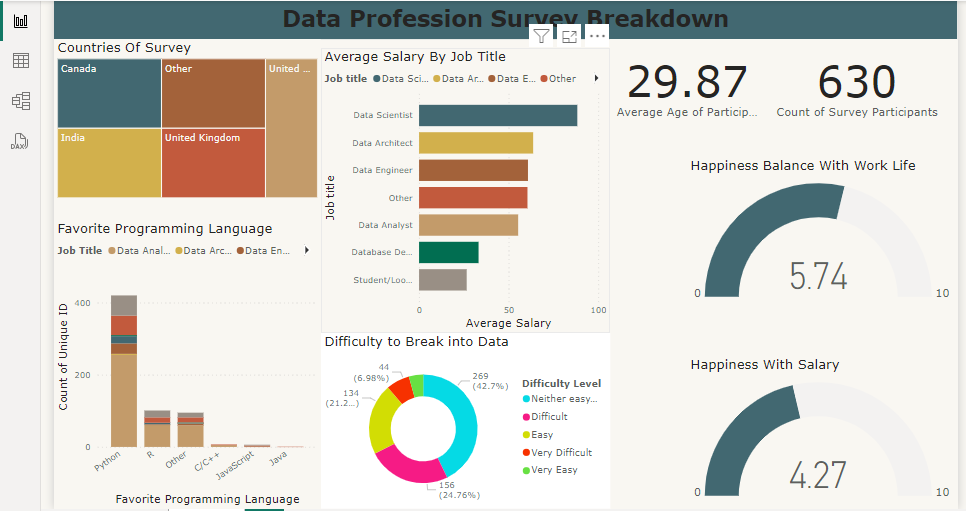

This screenshot's page, from the dashboard's own definition file:
{"tool":"powerbi","page":{"name":"Page 1","canvas":[1280,720],"ordinal":0},"visuals":[{"type":"textbox","box":[0,0,1280,53.8],"z":0},{"type":"card","fields":{"Values":["Count(Data Professional Survey.Unique ID)"]},"box":[996.2,53.8,283.8,131.7],"z":1000},{"type":"card","fields":{"Values":["Avg(Data Professional Survey.Q10 - Current Age)"]},"box":[788.4,53.8,218.9,131.7],"z":2000},{"type":"barChart","title":"Average Salary By Job Title","fields":{"Category":["Data Professional Survey.Q1 - Which Title Best Fits your Current Role?.1"],"Y":["Avg(Data Professional Survey.Average Salary)"],"Series":["Data Professional Survey.Q1 - Which Title Best Fits your Current Role?.1"]},"box":[378.4,66.8,410,404.4],"z":3000},{"type":"columnChart","title":"Favorite Programming Language","fields":{"Category":["Data Professional Survey.Q5 - Favorite Programming Language.1"],"Y":["Count(Data Professional Survey.Unique ID)"],"Series":["Data Professional Survey.Q1 - Which Title Best Fits your Current Role?.1"]},"box":[0,309.8,378.4,410],"z":4000},{"type":"treemap","title":"Countries Of Survey","fields":{"Group":["Data Professional Survey.Q11 - Which Country do you live in?.1"],"Values":["Count(Data Professional Survey.Q11 - Which Country do you live in?.1)"]},"box":[0,53.8,378.4,230],"z":5000},{"type":"gauge","title":"Happiness Balance With Work Life","fields":{"Y":["Avg(Data Professional Survey.Q6 - How Happy are you in your Current Position with the following? (Work/Life Balance))"],"MinValue":["Min(Data Professional Survey.Q6 - How Happy are you in your Current Position with the following? (Work/Life Balance))1"],"MaxValue":["Max(Data Professional Survey.Q6 - How Happy are you in your Current Position with the following? (Work/Life Balance))2"]},"box":[897.9,220.8,382.1,217],"z":6000},{"type":"gauge","title":"Happiness With Salary","fields":{"Y":["Avg(Data Professional Survey.Q6 - How Happy are you in your Current Position with the following? (Salary))"],"MinValue":["Min(Data Professional Survey.Q6 - How Happy are you in your Current Position with the following? (Salary))"],"MaxValue":["Max(Data Professional Survey.Q6 - How Happy are you in your Current Position with the following? (Salary))"]},"box":[897.9,502.7,382.1,217],"z":7000},{"type":"donutChart","title":"Difficulty to Break into Data","fields":{"Category":["Data Professional Survey.Q7 - How difficult was it for you to break into Data?"],"Series":["Data Professional Survey.Q7 - How difficult was it for you to break into Data?"],"Y":["CountNonNull(Data Professional Survey.Q7 - How difficult was it for you to break into Data?)"]},"box":[378.4,471.2,410,248.6],"z":8000}]}

Visuals, with their boxes on the page's 1280x720 design canvas (x1, y1, x2, y2). These are canvas units, not pixel positions in the 966x511 screenshot, which may show the page scaled, cropped or inside an application window:
textbox: bbox=[0, 0, 1280, 54]
card - Count(Data Professional Survey.Unique ID): bbox=[996, 54, 1280, 186]
card - Avg(Data Professional Survey.Q10 - Current Age): bbox=[788, 54, 1007, 186]
"Average Salary By Job Title" barChart: bbox=[378, 67, 788, 471]
"Favorite Programming Language" columnChart: bbox=[0, 310, 378, 720]
"Countries Of Survey" treemap: bbox=[0, 54, 378, 284]
"Happiness Balance With Work Life" gauge: bbox=[898, 221, 1280, 438]
"Happiness With Salary" gauge: bbox=[898, 503, 1280, 720]
"Difficulty to Break into Data" donutChart: bbox=[378, 471, 788, 720]
